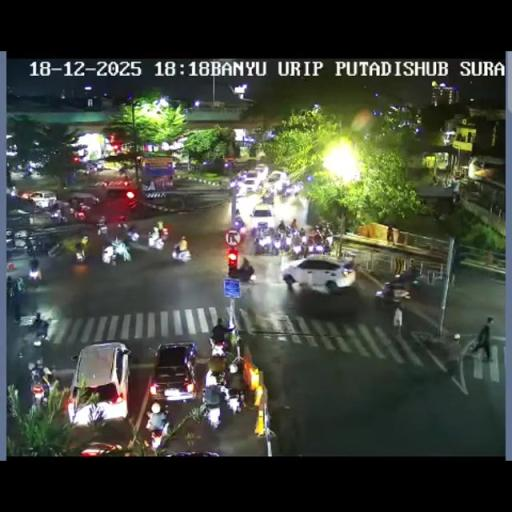Car: (68, 342, 130, 424), (148, 342, 198, 403), (282, 254, 356, 294), (374, 279, 410, 306), (102, 178, 138, 205), (249, 203, 275, 231), (77, 442, 124, 455), (6, 210, 32, 231), (27, 190, 57, 208), (266, 170, 288, 192), (242, 171, 264, 193)
Motorcycle: (78, 226, 186, 267), (206, 334, 233, 378), (16, 324, 50, 358), (145, 403, 169, 448), (28, 364, 50, 405), (8, 278, 23, 319), (225, 386, 244, 415), (202, 384, 224, 406), (172, 236, 190, 262), (204, 402, 222, 428), (112, 240, 131, 262), (75, 235, 89, 262), (147, 230, 165, 250), (46, 240, 66, 258), (50, 204, 67, 224), (307, 238, 328, 254), (240, 257, 254, 281), (253, 232, 268, 254), (28, 264, 42, 286), (276, 232, 290, 254), (102, 243, 114, 265), (291, 238, 303, 257), (260, 186, 274, 202), (232, 217, 246, 233), (126, 224, 138, 242), (282, 273, 296, 288), (342, 253, 355, 269), (116, 220, 130, 233), (118, 166, 130, 181), (96, 222, 108, 236), (25, 244, 37, 258), (410, 274, 422, 288), (229, 176, 241, 190), (323, 232, 334, 247), (78, 202, 92, 212), (22, 166, 33, 178), (276, 220, 286, 233), (8, 185, 18, 197), (452, 191, 461, 204), (70, 197, 79, 209), (295, 180, 303, 190), (300, 233, 307, 244), (234, 208, 240, 217)
